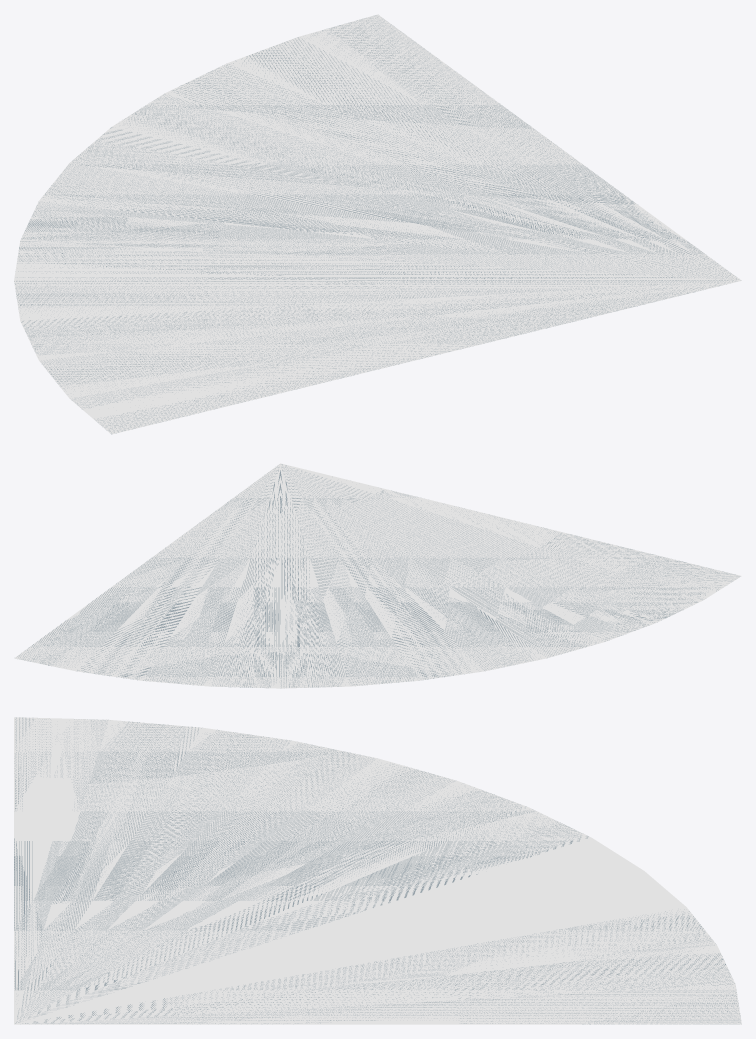
3 views of the same model, one above another, from view 1: azimuth 30°, elevation 25°; view 2: azimuth 150°, elevation 25°; view 3: azimuth 270°, elevation 25° (orthographic). The views are drawn at different scales.
Visible parts, largest first — view 1: SketchUp; view 2: SketchUp; view 3: SketchUp.
Boxes of the visible parts, box(x1,y1,x2,y2) form: SketchUp: box(14, 14, 741, 434); SketchUp: box(14, 463, 741, 688); SketchUp: box(14, 717, 741, 1024).
Size of the model in its own units: 1 by 1 by 0.
